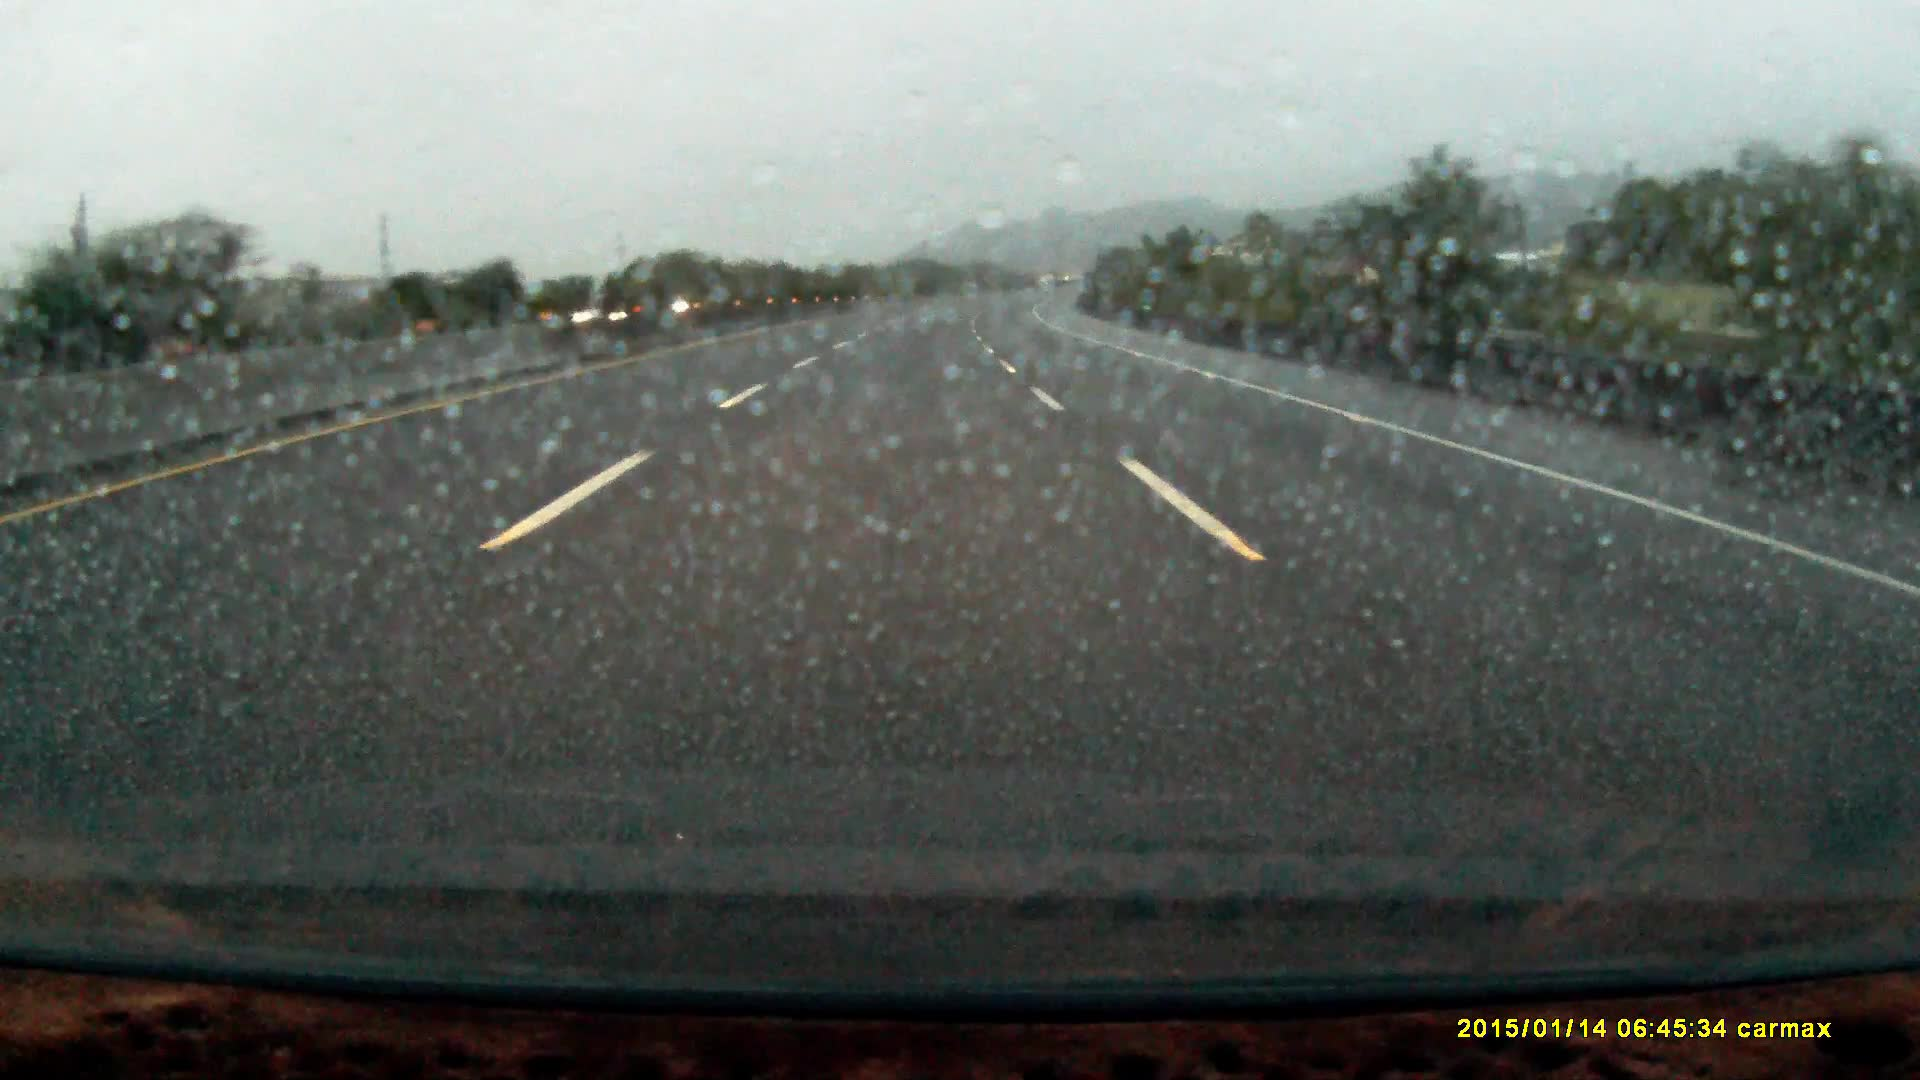vehicle: (568, 299, 640, 328), (670, 285, 733, 313)
